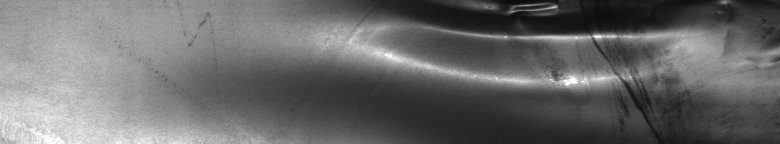ke: (385, 4, 776, 122)
